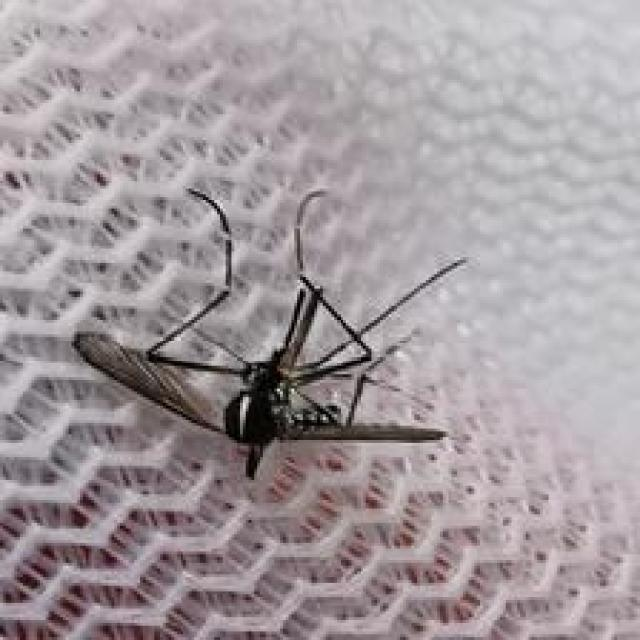Aedes albopictus: (71, 184, 468, 482)
